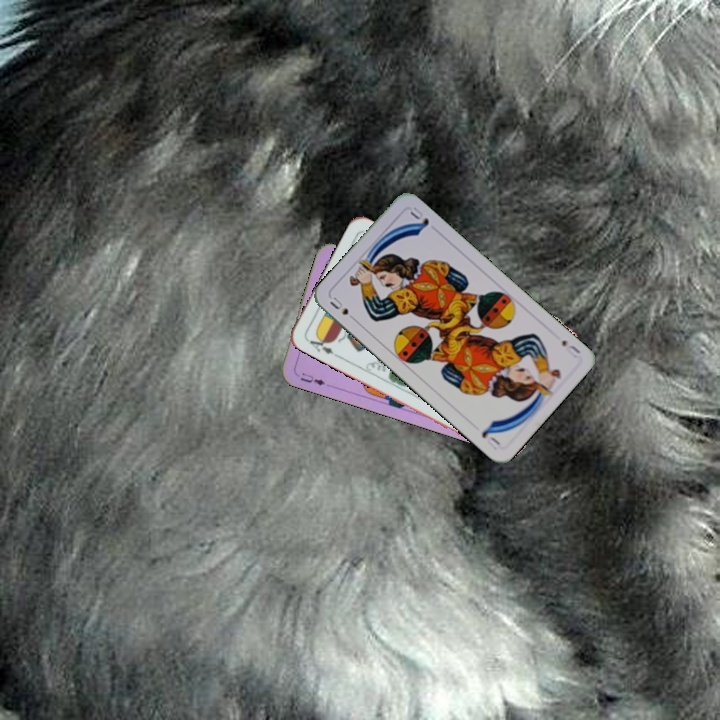EA: (302, 331, 340, 360)
EU: (296, 368, 328, 388)
SU: (326, 292, 360, 325), (557, 336, 583, 361)
